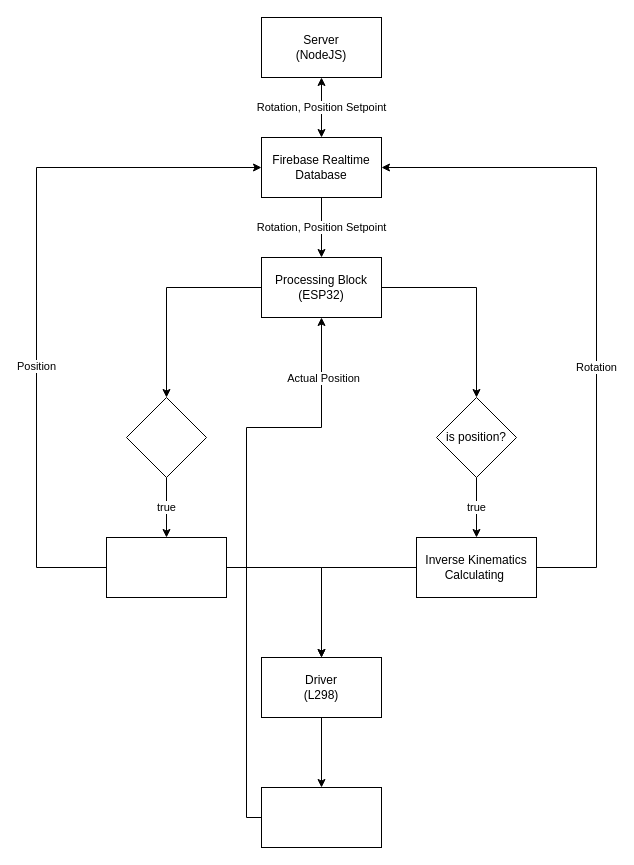
The diagram is 634 pixels wide and 865 high, and some of its shapes have lost their labels. The shapes that lost their labels are listed below. From the top down, each one's centre as x and y in pixels, then its label:
At point (166, 437): "is rotation?".
At point (166, 567): "Forward Kinematics Calculating".
At point (321, 817): "DC Motor Encoder".
